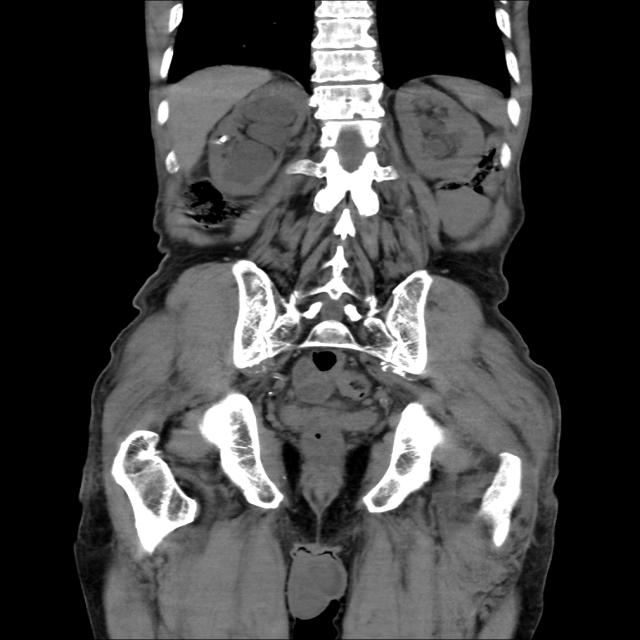kidneystone: (216, 135, 229, 144)
